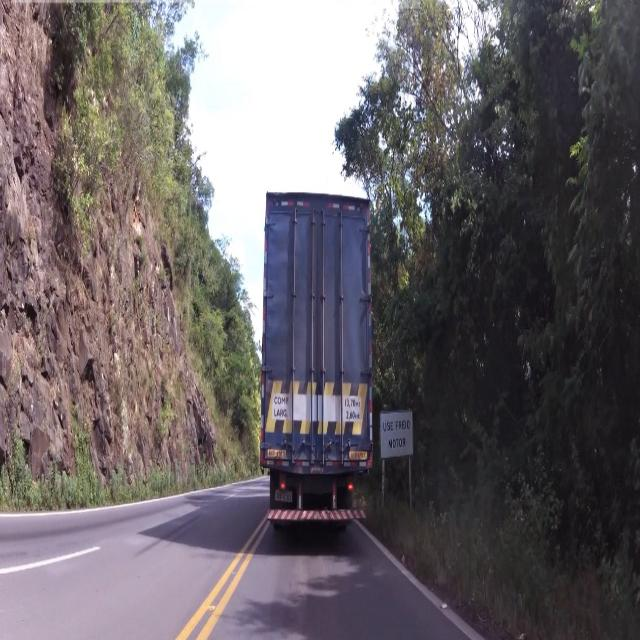E-5: (378, 408, 418, 457)
